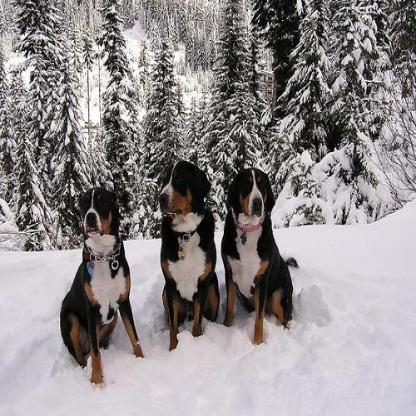Greater_Swiss_Mountain_dog: (58, 180, 146, 390), (220, 166, 294, 344), (158, 158, 219, 350)
